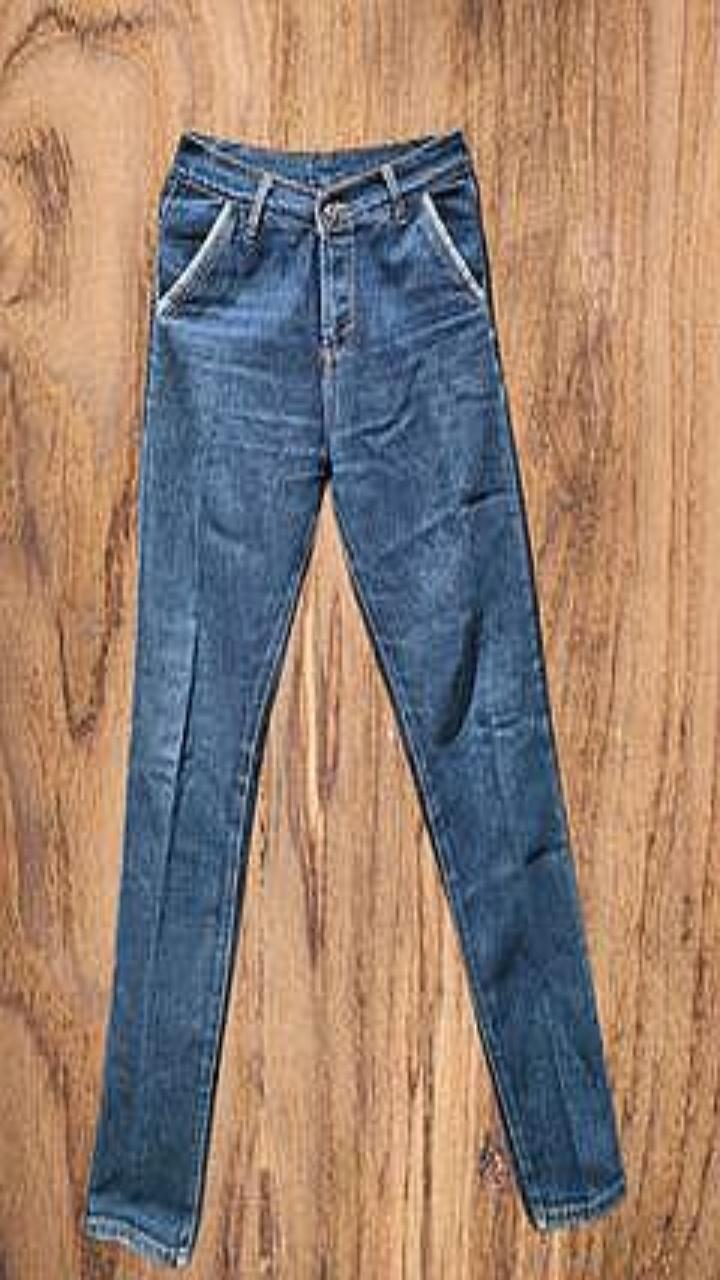Jeans: (84, 129, 625, 1265)
